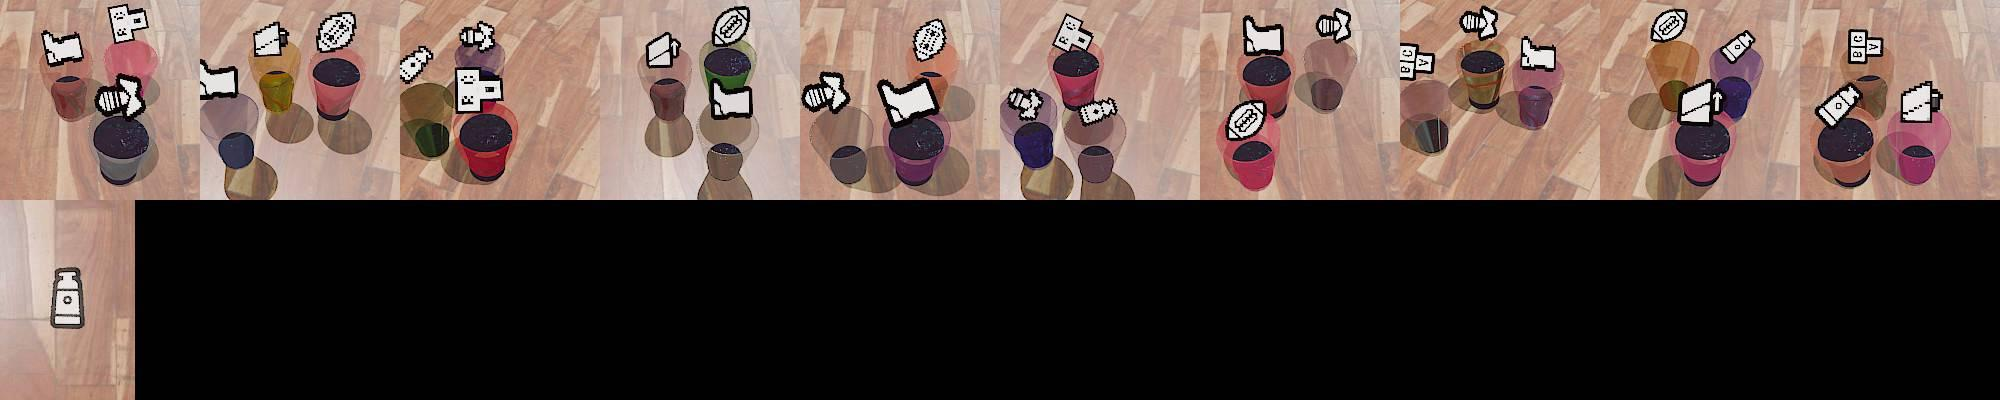icon: (876, 74, 940, 124), (1675, 75, 1727, 124), (94, 74, 148, 121), (48, 265, 87, 327), (455, 66, 505, 113), (801, 68, 849, 113), (1815, 83, 1862, 129), (707, 75, 754, 120), (1050, 13, 1094, 56), (107, 4, 151, 47), (198, 59, 241, 102), (1899, 80, 1943, 124), (314, 10, 356, 55), (38, 29, 84, 69), (1224, 98, 1267, 140), (710, 5, 751, 48), (1242, 15, 1284, 56), (912, 17, 948, 61), (253, 18, 291, 59), (1459, 5, 1500, 42), (1519, 34, 1557, 73), (1649, 8, 1689, 45), (1005, 87, 1046, 122), (398, 43, 434, 84), (1315, 6, 1353, 43), (644, 31, 681, 69), (1718, 28, 1756, 65), (1399, 42, 1435, 80), (1077, 97, 1121, 126), (1847, 29, 1883, 65), (459, 20, 496, 52)
